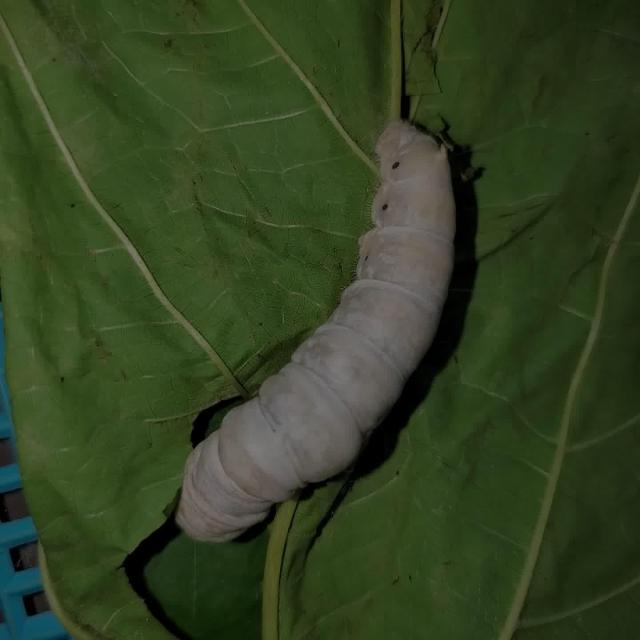Grasserie: (164, 99, 472, 552)
